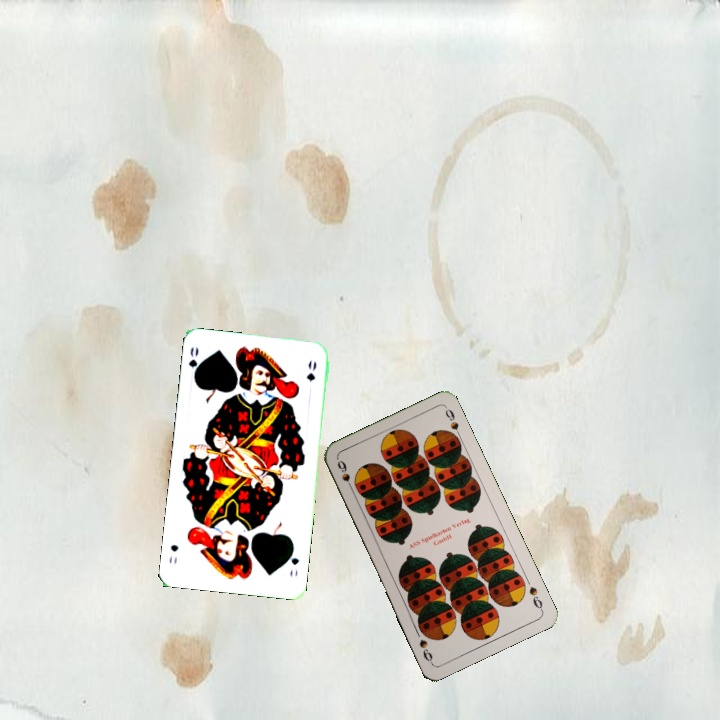GO: (184, 343, 204, 383), (285, 542, 301, 580)
S9: (333, 456, 357, 494), (525, 582, 546, 613)
